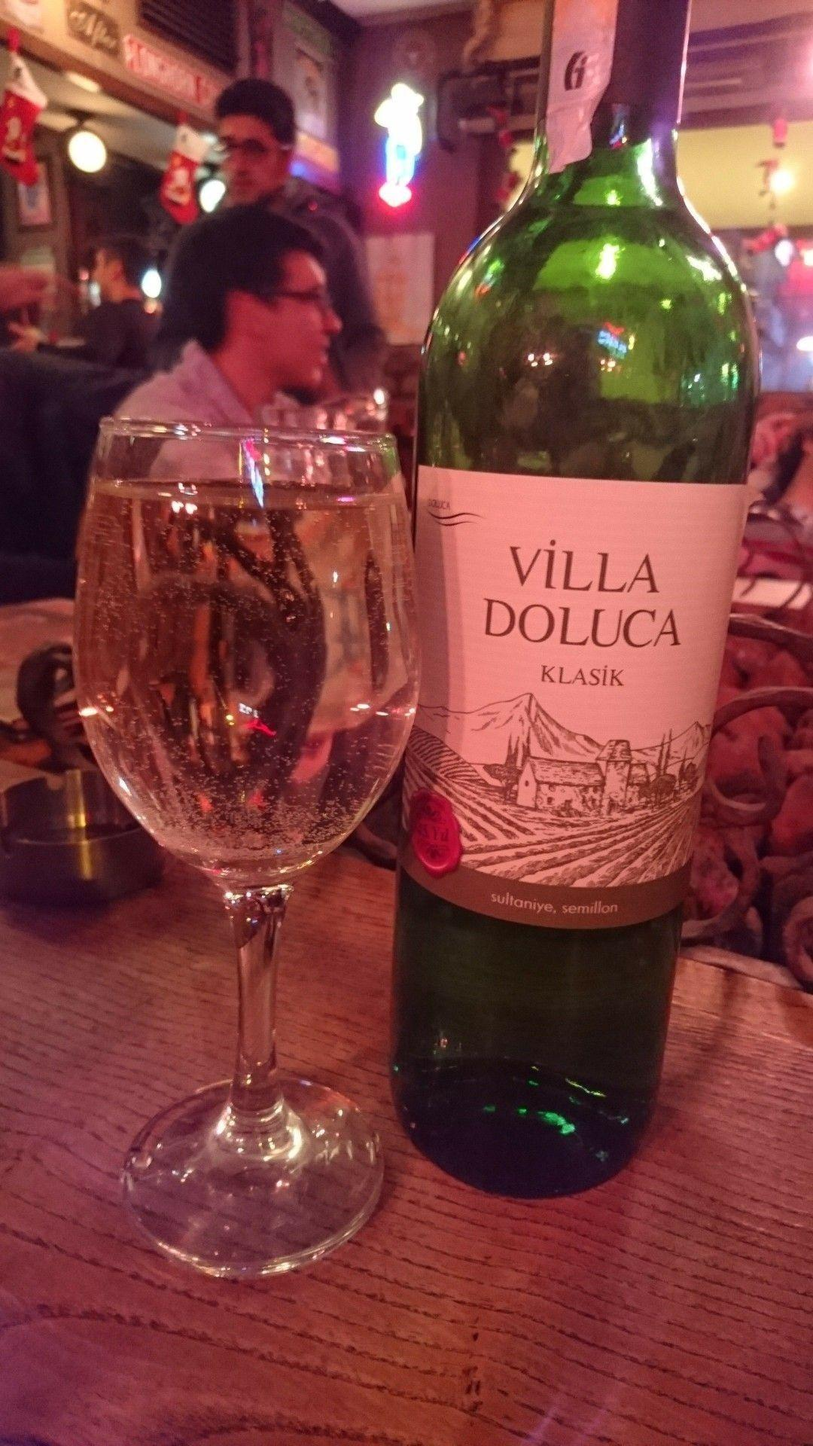bottle-glass: (390, 6, 767, 1221)
glass-wine: (69, 410, 423, 1267)
